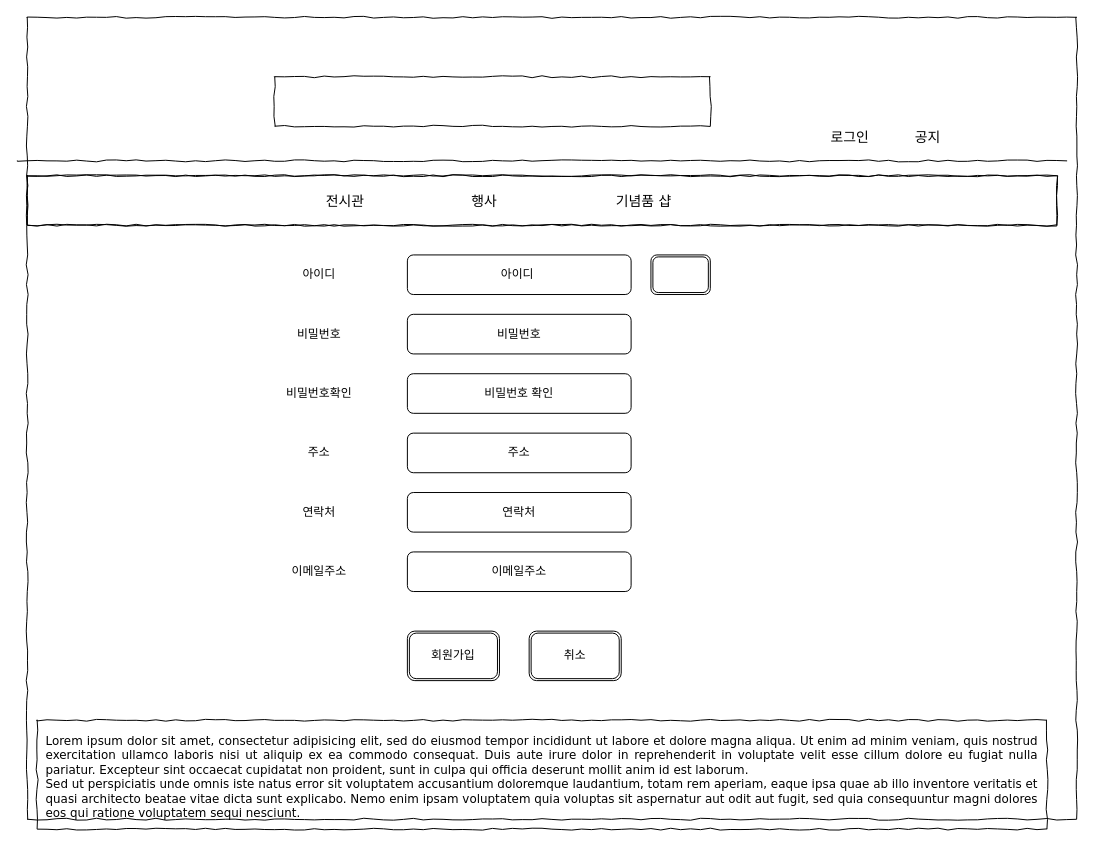
Image size: 1094x846. Some labels were removed from this diagram. Each missing label, with the box of its shape:
LOGO: (274, 76, 710, 126)
중복확인: (650, 254, 710, 295)
